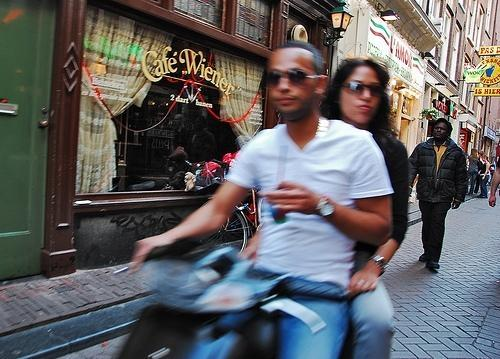motorcycle: (117, 238, 349, 359)
